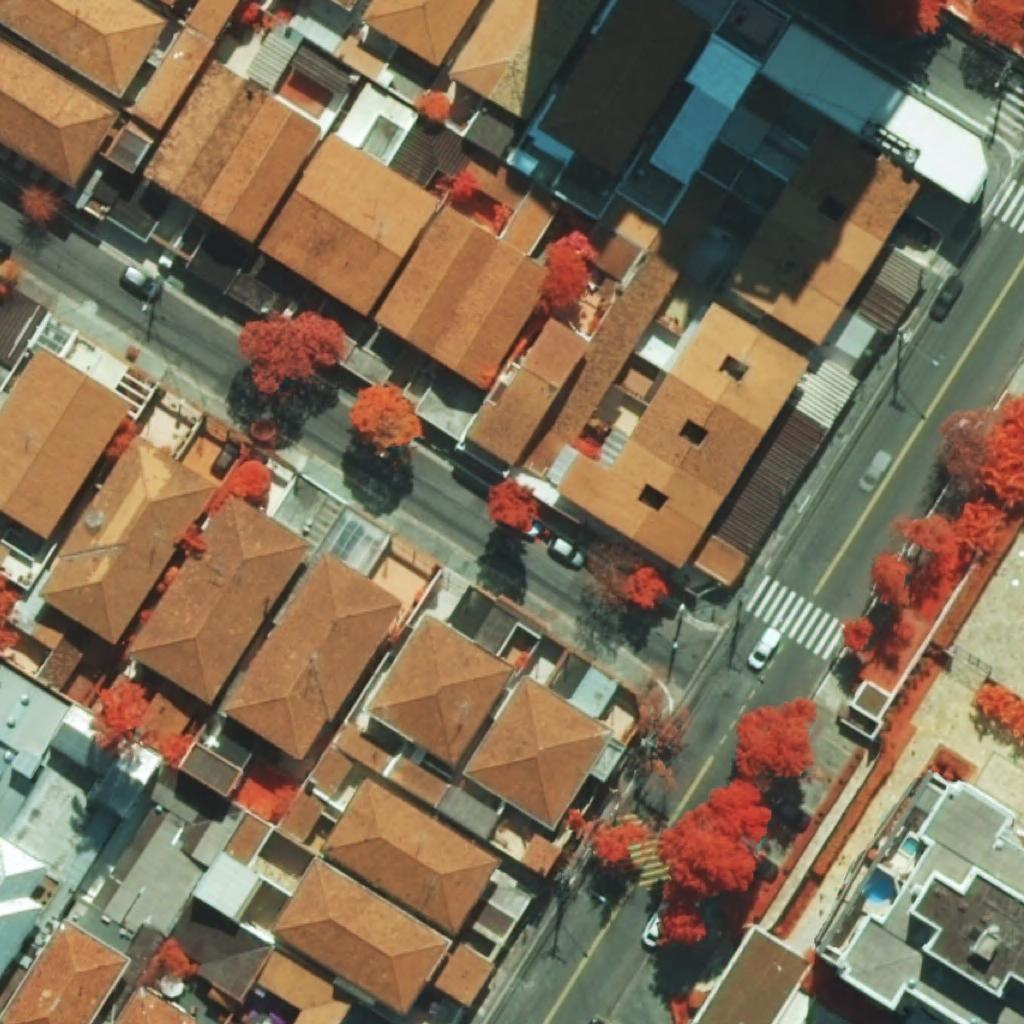pool: (863, 868, 891, 903), (902, 836, 919, 855)
